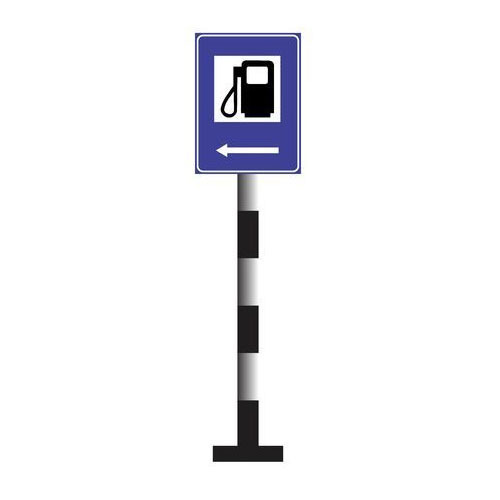fuel-station: (193, 26, 302, 129)
left turn: (215, 142, 281, 159)
